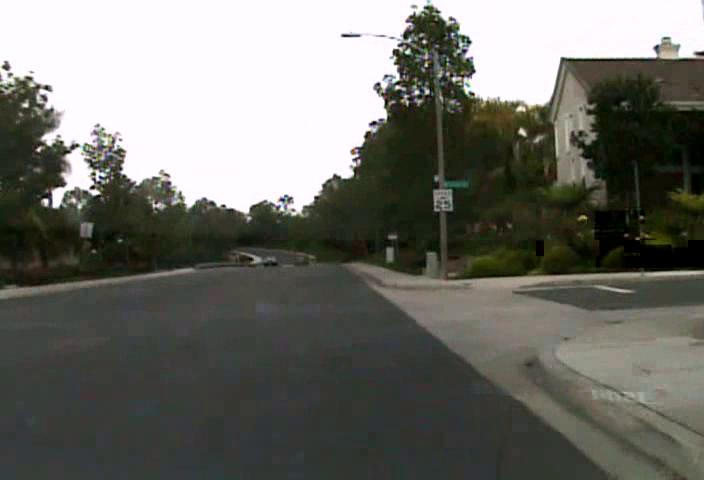speedLimit25: (432, 187, 453, 212)
